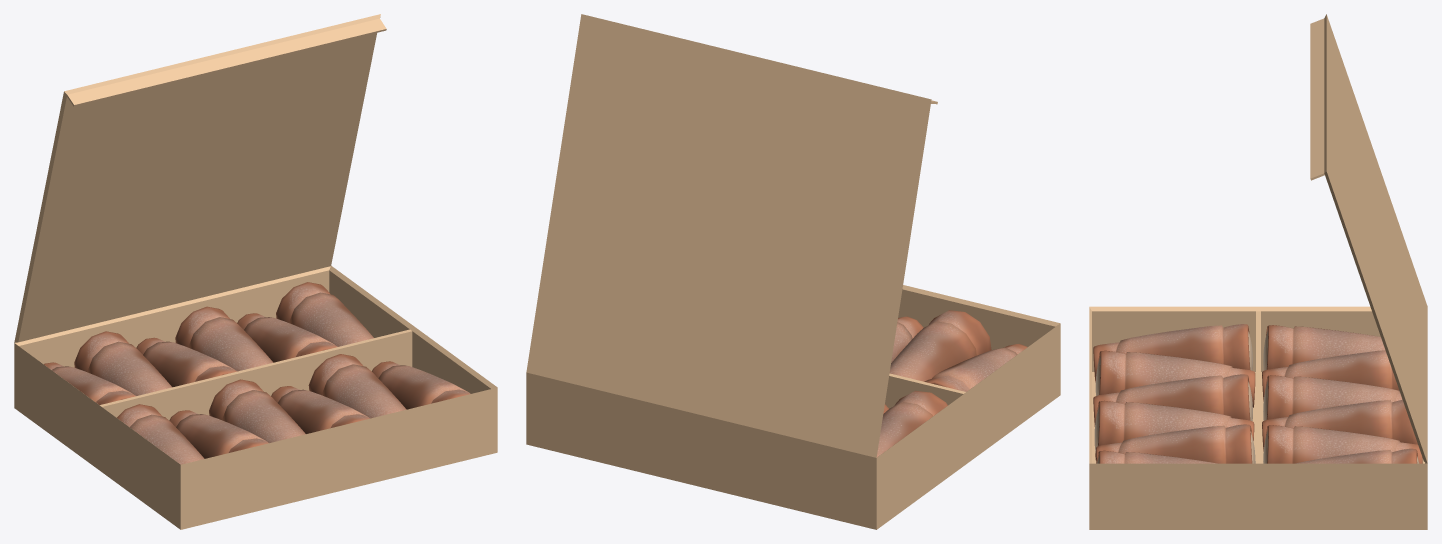
The model's file is rolls_cream_box.fbx.
3 views of the same model, side by side, from view 1: azimuth 30°, elevation 25°; view 2: azimuth 150°, elevation 25°; view 3: azimuth 270°, elevation 25° (orthographic). The views are drawn at different scales.
Visible parts, largest first — view 1: box_&_rolles_crem, roll_&_crem_in_box_11.001, roll_&_crem_in_box_2, roll_&_crem_in_box_6, roll_&_crem_in_box_4, roll_&_crem_in_box_9, roll_&_crem_in_box_3, roll_&_crem_in_box_5, roll_&_crem_in_box_8, roll_&_crem_in_box_10.001, roll_&_crem_in_box_12.001, roll_&_crem_in_box_7 (+1 smaller); view 2: box_&_rolles_crem, roll_&_crem_in_box_8, roll_&_crem_in_box_1, roll_&_crem_in_box_7, roll_&_crem_in_box_9; view 3: box_&_rolles_crem, roll_&_crem_in_box_7, roll_&_crem_in_box_9, roll_&_crem_in_box_8, roll_&_crem_in_box_11.001, roll_&_crem_in_box_10.001, roll_&_crem_in_box_5, roll_&_crem_in_box_3, roll_&_crem_in_box_4, roll_&_crem_in_box_1, roll_&_crem_in_box_2, roll_&_crem_in_box_6 (+1 smaller).
Boxes of the visible parts, x1,y1,x2,y2 form: box_&_rolles_crem: [14, 14, 497, 529]; roll_&_crem_in_box_11.001: [308, 354, 406, 418]; roll_&_crem_in_box_2: [74, 331, 171, 395]; roll_&_crem_in_box_6: [276, 282, 373, 346]; roll_&_crem_in_box_4: [175, 306, 273, 371]; roll_&_crem_in_box_9: [209, 379, 305, 442]; roll_&_crem_in_box_3: [136, 337, 237, 387]; roll_&_crem_in_box_5: [237, 313, 337, 362]; roll_&_crem_in_box_8: [169, 410, 268, 458]; roll_&_crem_in_box_10.001: [271, 386, 369, 433]; roll_&_crem_in_box_12.001: [372, 361, 470, 409]; roll_&_crem_in_box_7: [117, 404, 204, 464]; box_&_rolles_crem: [526, 14, 1060, 529]; roll_&_crem_in_box_8: [889, 310, 991, 381]; roll_&_crem_in_box_1: [876, 390, 947, 457]; roll_&_crem_in_box_7: [924, 343, 1027, 391]; roll_&_crem_in_box_9: [891, 316, 923, 362]; box_&_rolles_crem: [1089, 14, 1427, 529]; roll_&_crem_in_box_7: [1093, 324, 1252, 382]; roll_&_crem_in_box_9: [1093, 374, 1252, 426]; roll_&_crem_in_box_8: [1095, 350, 1255, 407]; roll_&_crem_in_box_11.001: [1096, 424, 1255, 463]; roll_&_crem_in_box_10.001: [1094, 400, 1254, 460]; roll_&_crem_in_box_5: [1263, 425, 1422, 463]; roll_&_crem_in_box_3: [1263, 375, 1402, 420]; roll_&_crem_in_box_4: [1262, 399, 1417, 451]; roll_&_crem_in_box_1: [1263, 325, 1385, 370]; roll_&_crem_in_box_2: [1262, 350, 1399, 401]; roll_&_crem_in_box_6: [1295, 448, 1419, 463].
Size of the model in its own units: 29 by 30.88 by 26.39.
